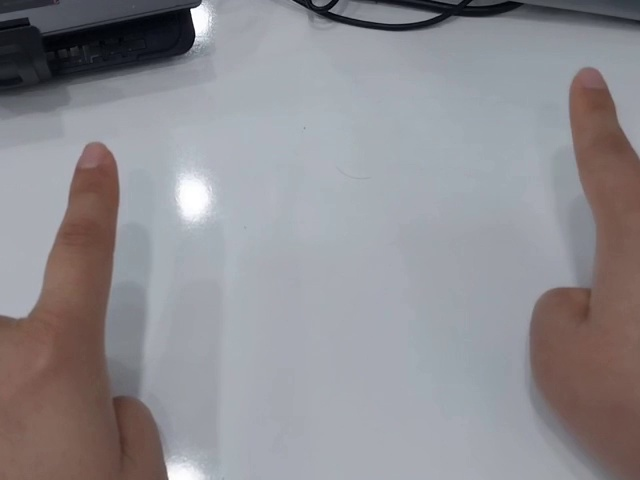fingers: (67, 139, 119, 197), (568, 66, 618, 117)
